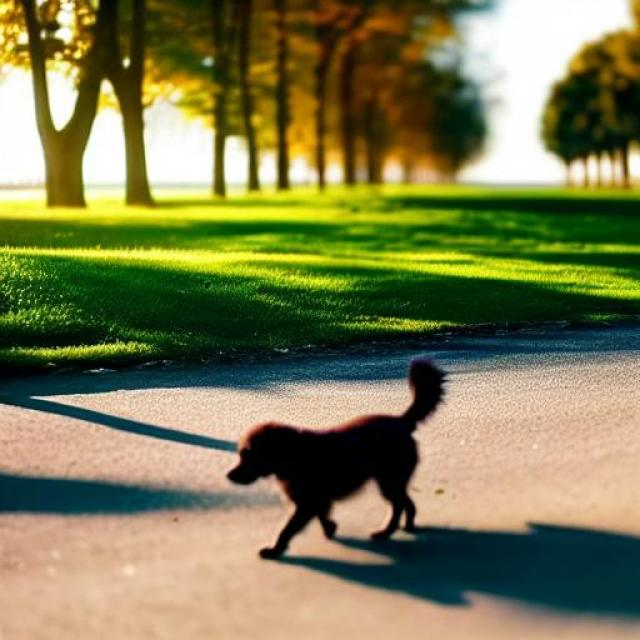Dog: (226, 358, 448, 562)
